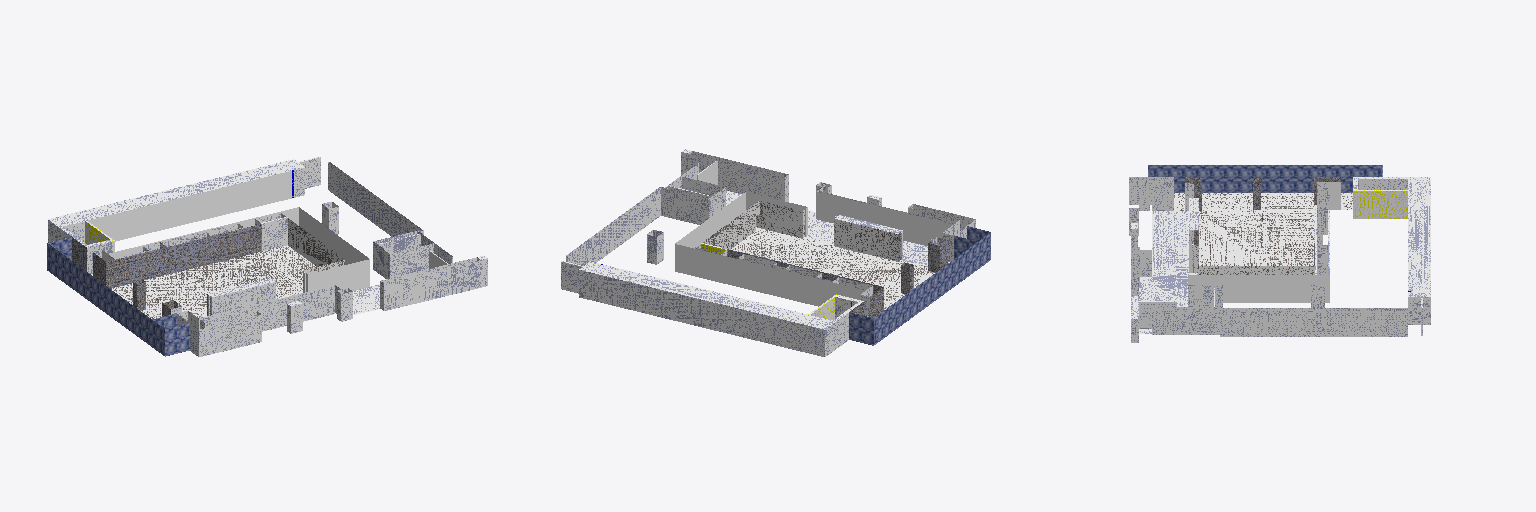
3 views of the same model, side by side, from view 1: azimuth 30°, elevation 25°; view 2: azimuth 150°, elevation 25°; view 3: azimuth 270°, elevation 25° (orthographic).
Visible parts, largest first — view 1: Mesh2 Model; view 2: Mesh2 Model, Mesh4 Model; view 3: Mesh2 Model, Mesh1 ____ Model.
Boxes of the visible parts, x1,y1,x2,y2 form: Mesh2 Model: [47, 157, 487, 356]; Mesh2 Model: [561, 149, 990, 356]; Mesh4 Model: [647, 230, 663, 264]; Mesh2 Model: [1129, 165, 1430, 342]; Mesh1 ____ Model: [1353, 190, 1407, 218].
Bounding box in the file's own units: 47.43 × 4 × 39.45.
Materials: 11 (2 with a texture image).